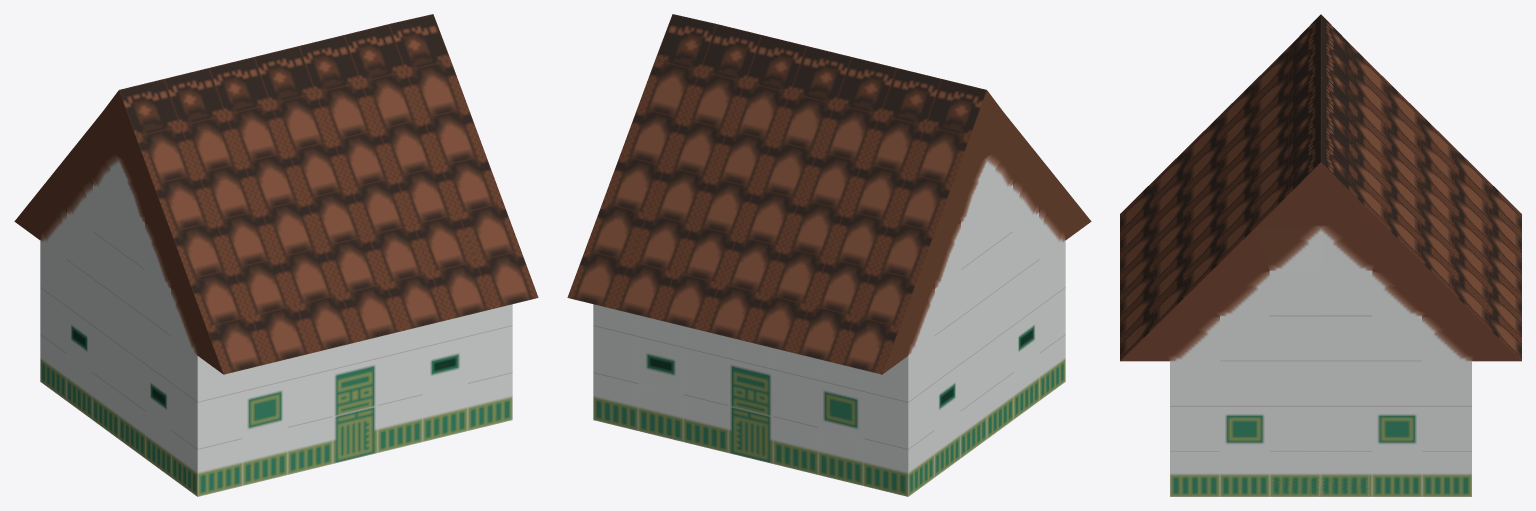
File: House.dae
3 views of the same model, side by side, from view 1: azimuth 30°, elevation 25°; view 2: azimuth 150°, elevation 25°; view 3: azimuth 270°, elevation 25° (orthographic). The views are drawn at different scales.
Parts seen in each view (by area): view 1: Plane; view 2: Plane; view 3: Plane.
Part boxes in pixels (x1,y1,x2,y2): Plane: (14, 14, 538, 496); Plane: (567, 14, 1091, 496); Plane: (1120, 14, 1521, 496).
Bounding box in the file's own units: 3.5 × 4.03 × 3.71.
